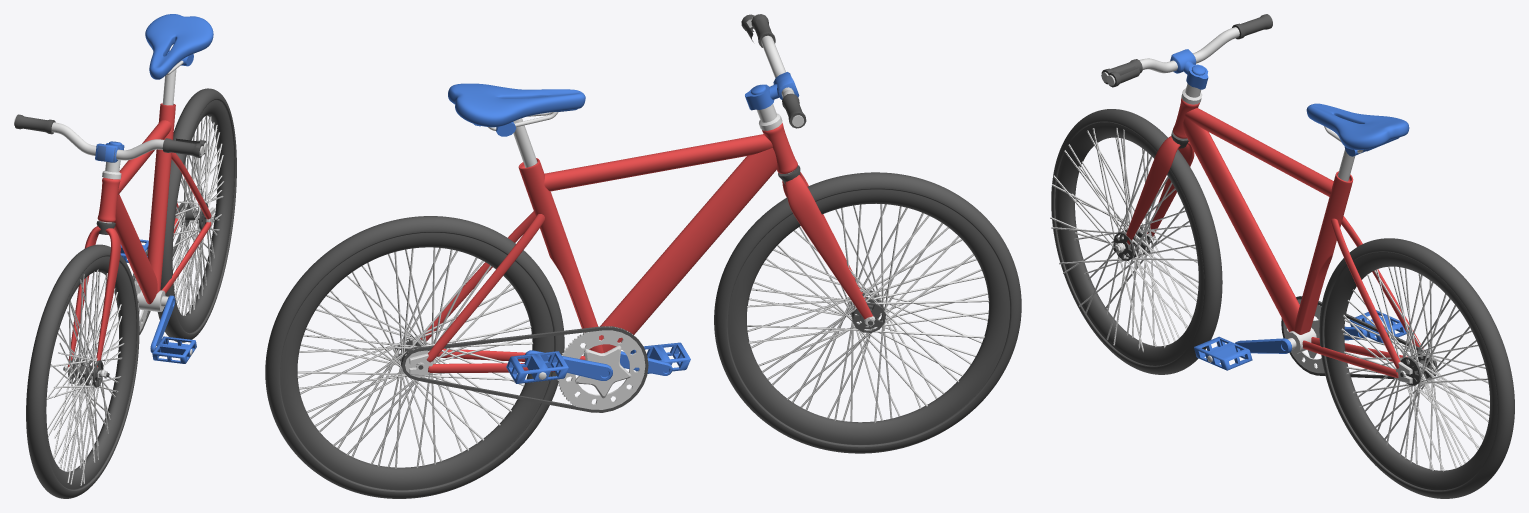
File: bicycle-3d-animated-icon-479024331363.glb
3 views of the same model, side by side, from view 1: azimuth 30°, elevation 25°; view 2: azimuth 150°, elevation 25°; view 3: azimuth 270°, elevation 25° (orthographic). The views are drawn at different scales.
Visible parts, largest first — view 1: tire.062, tire.063, body.012, body.001, Spokes.001, body.008, body.017, Spokes, body.027, tools.004, body.026, body.019 (+2 smaller); view 2: tire.062, tire.063, body.012, body.008, Spokes, body.001, Spokes.001, tools.003, tools.005, body.017, tools.004, body.025 (+4 smaller); view 3: tire.063, tire.062, body.012, Spokes.001, Spokes, body.008, body.001, body.017, body.027, body.026, tools.005, tools.004 (+3 smaller).
Part boxes in pixels (<box>): tire.062: <box>26,244,139,498</box>; tire.063: <box>157,88,236,342</box>; body.012: <box>114,103,214,304</box>; body.001: <box>145,14,213,79</box>; Spokes.001: <box>53,269,121,485</box>; body.008: <box>66,160,121,370</box>; body.017: <box>14,114,204,160</box>; Spokes: <box>172,116,223,314</box>; body.027: <box>152,336,196,363</box>; tools.004: <box>133,277,168,323</box>; body.026: <box>150,295,175,352</box>; body.019: <box>162,60,183,105</box>; tire.062: <box>714,172,1021,453</box>; tire.063: <box>265,216,564,498</box>; body.012: <box>400,134,777,375</box>; body.008: <box>757,104,875,324</box>; Spokes: <box>299,248,529,468</box>; body.001: <box>448,83,585,136</box>; Spokes.001: <box>747,204,988,421</box>; tools.003: <box>558,326,645,409</box>; tools.005: <box>401,326,648,412</box>; body.017: <box>751,14,806,128</box>; tools.004: <box>557,326,647,407</box>; body.025: <box>506,351,568,383</box>; tire.063: <box>1319,238,1514,498</box>; tire.062: <box>1051,109,1222,374</box>; body.012: <box>1183,108,1434,379</box>; Spokes.001: <box>1050,128,1197,352</box>; Spokes: <box>1343,267,1488,470</box>; body.008: <box>1126,83,1202,244</box>; body.001: <box>1306,103,1409,156</box>; body.017: <box>1101,14,1272,84</box>; body.027: <box>1194,336,1252,370</box>; body.026: <box>1235,338,1291,353</box>; tools.005: <box>1281,296,1437,378</box>; tools.004: <box>1285,296,1319,368</box>.
Size of the model in its own units: 2.93 by 2.23 by 2.66.
